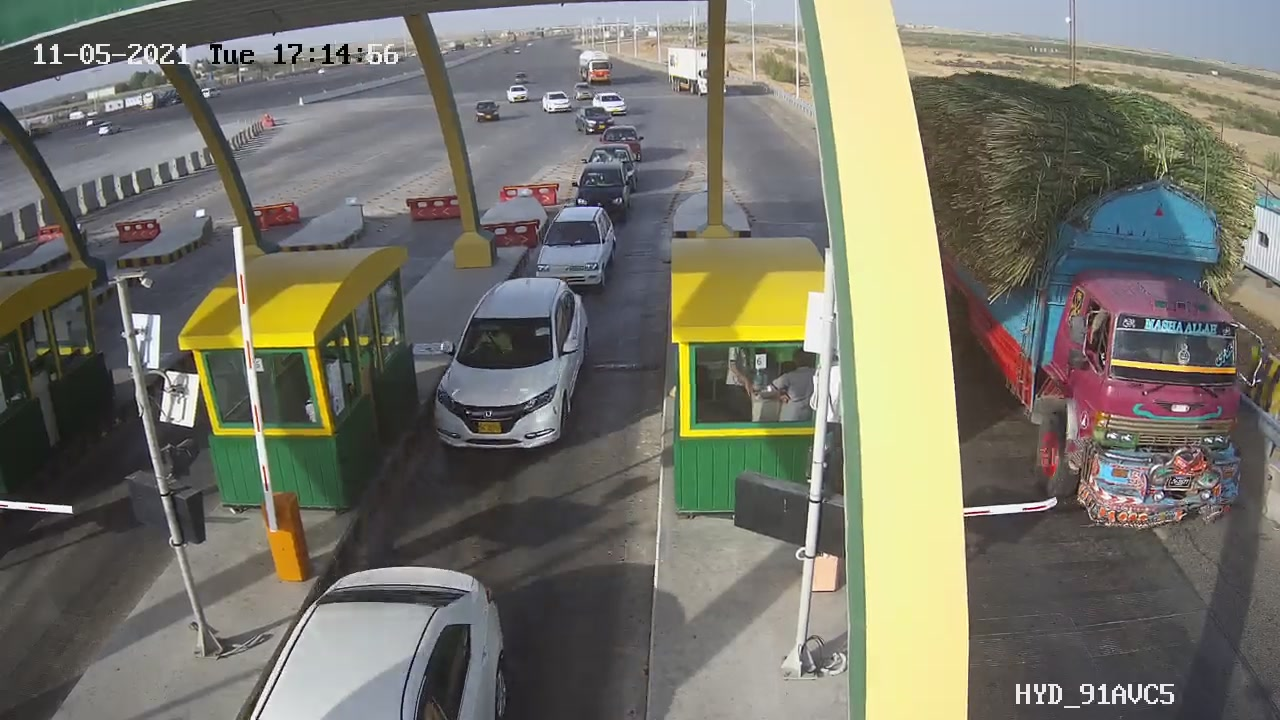F1: (414, 268, 607, 469), (522, 196, 625, 294)
